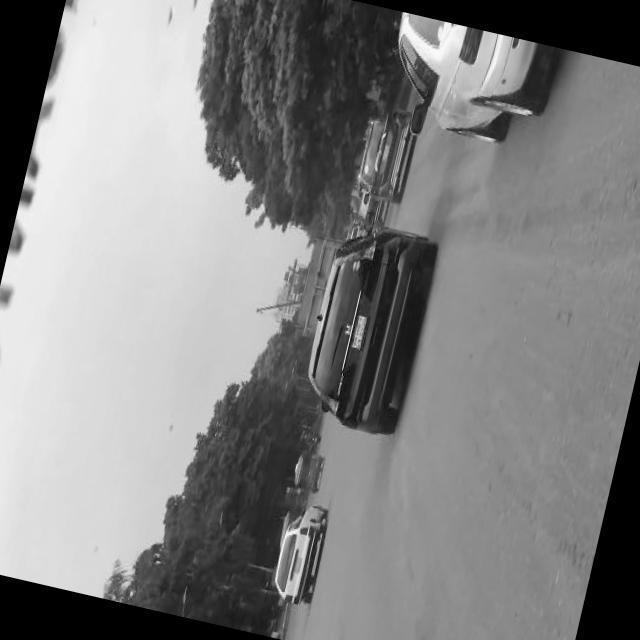car: (296, 225, 440, 444), (374, 14, 562, 162), (351, 102, 421, 207), (268, 496, 332, 610)
motorcycle: (288, 450, 326, 496), (300, 429, 320, 448)
truck: (290, 234, 338, 342)
